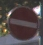No entry: (6, 5, 37, 39)
